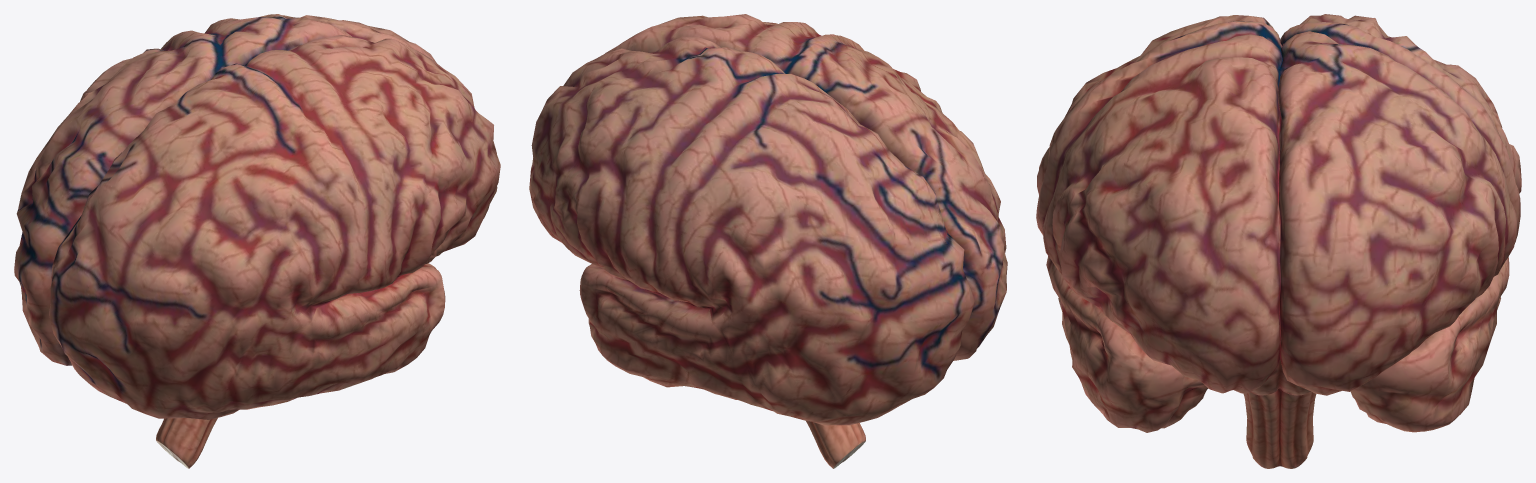
Rendered from brain.glb.
3 views of the same model, side by side, from view 1: azimuth 30°, elevation 25°; view 2: azimuth 150°, elevation 25°; view 3: azimuth 270°, elevation 25° (orthographic). The views are drawn at different scales.
Size of the model in its own units: 2 by 1.79 by 1.63.
1 material, 1 textured.
